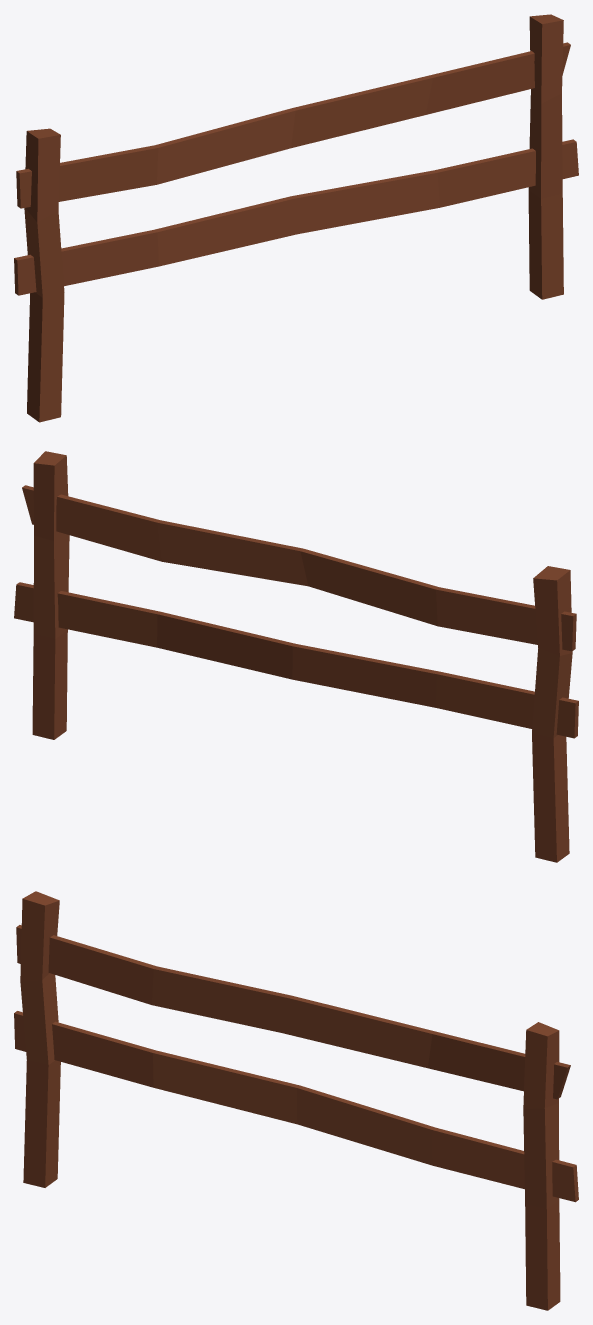
File: village_pack_fence.glb
3 renders of one model, top to bottom at view 1: azimuth 30°, elevation 25°; view 2: azimuth 150°, elevation 25°; view 3: azimuth 330°, elevation 25°, orthographic.
Visible parts, largest first — view 1: fence_wood 1_0; view 2: fence_wood 1_0; view 3: fence_wood 1_0.
Part boxes in pixels (<box>): fence_wood 1_0: <box>14,14,578,422</box>; fence_wood 1_0: <box>14,451,578,862</box>; fence_wood 1_0: <box>14,891,578,1310</box>.
Size of the model in its own units: 3.03 by 1.47 by 0.1296.
